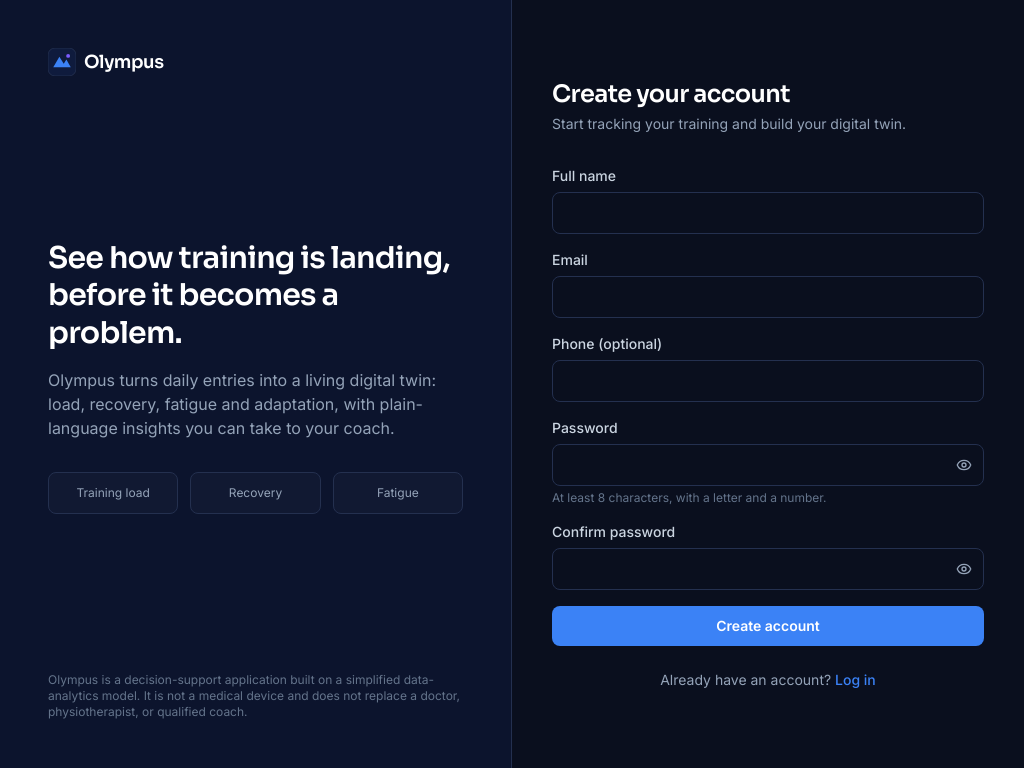
it: RegisterPage › validates password strength and confirmation
Type "Jo Doe" into the field labelled "Full name" at (768, 213), box [552,192,984,234]
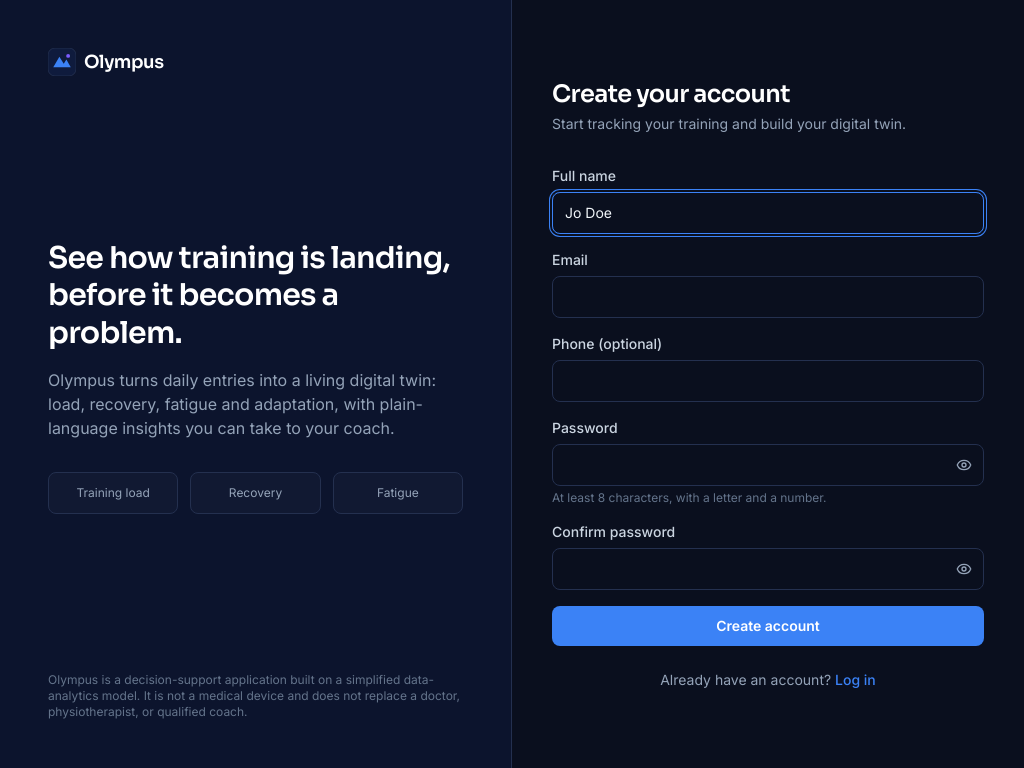
Type "jo@doe.com" into the field labelled "Email" at (768, 297), box [552,276,984,318]
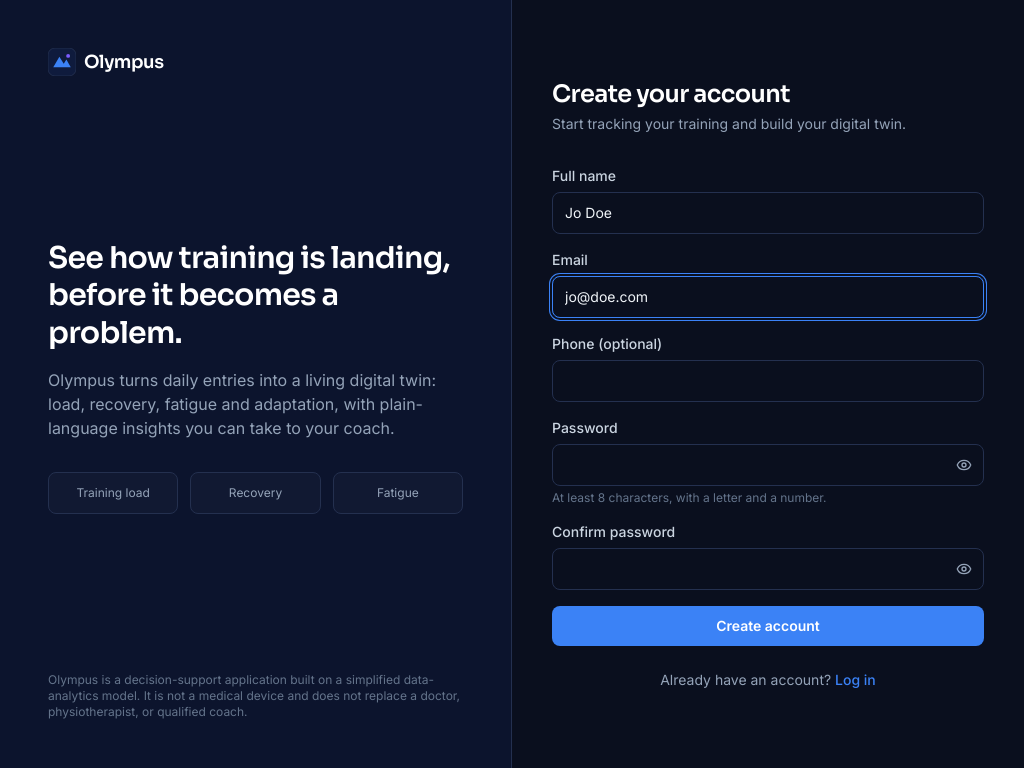
Type "abcdefgh" into the password field labelled "Password" at (768, 465), box [552,444,984,486]
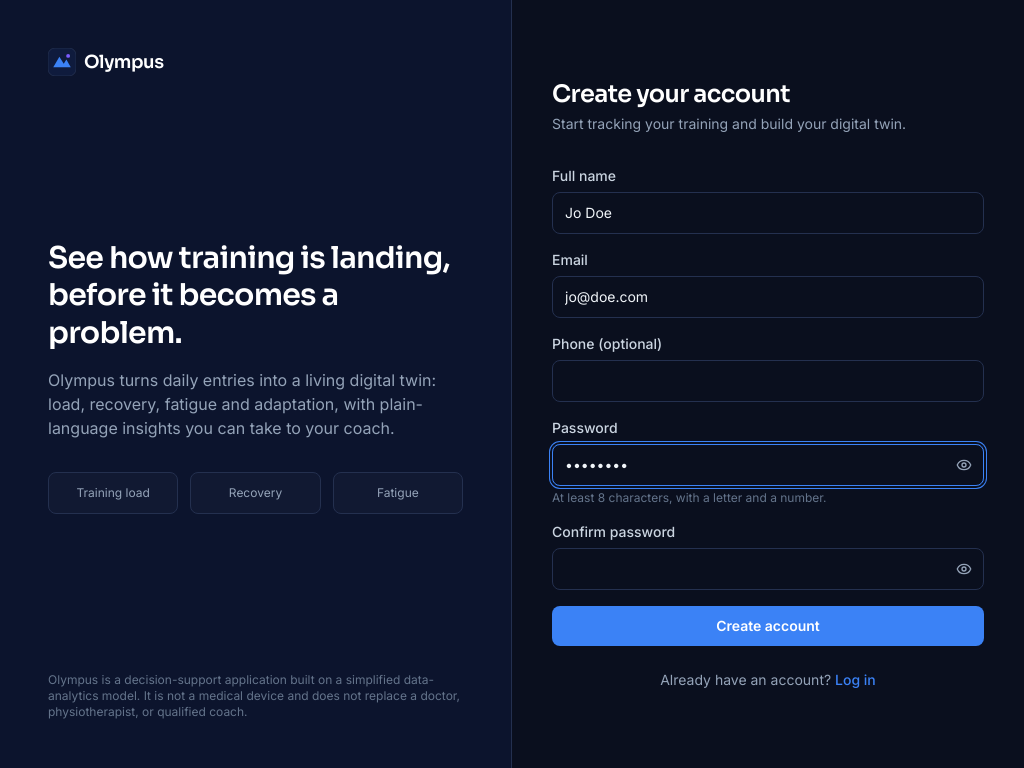
Type "different1" into the password field labelled "Confirm password" at (768, 569), box [552,548,984,590]
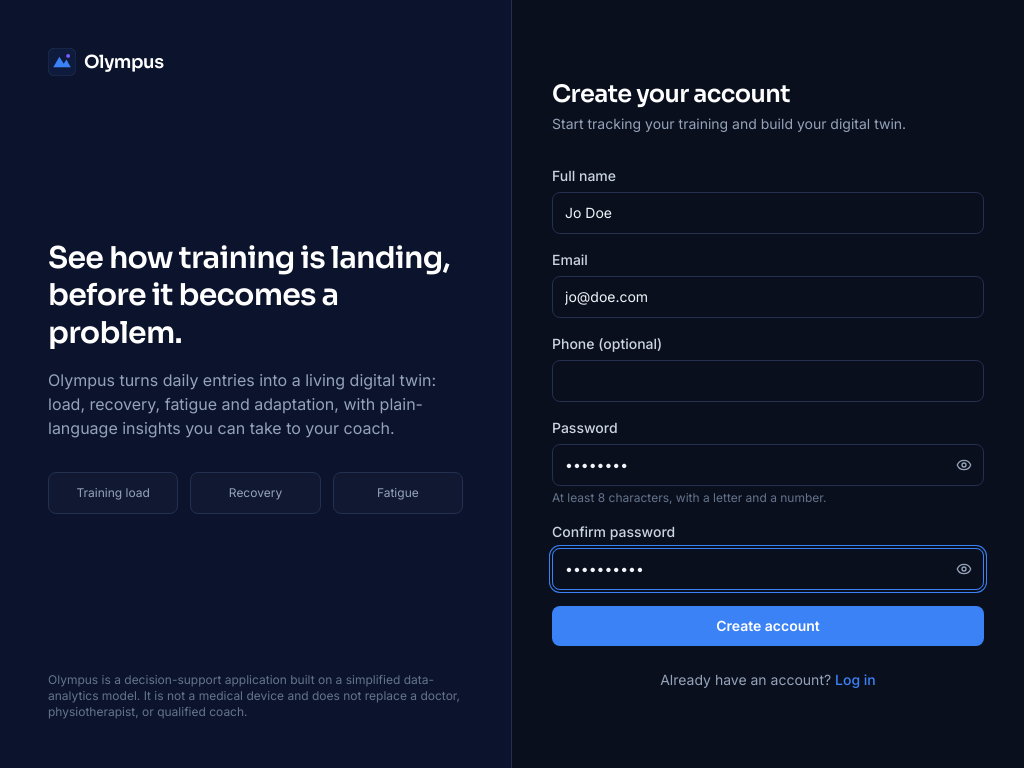
Click the button "Create account" at (768, 626), box [552,606,984,646]
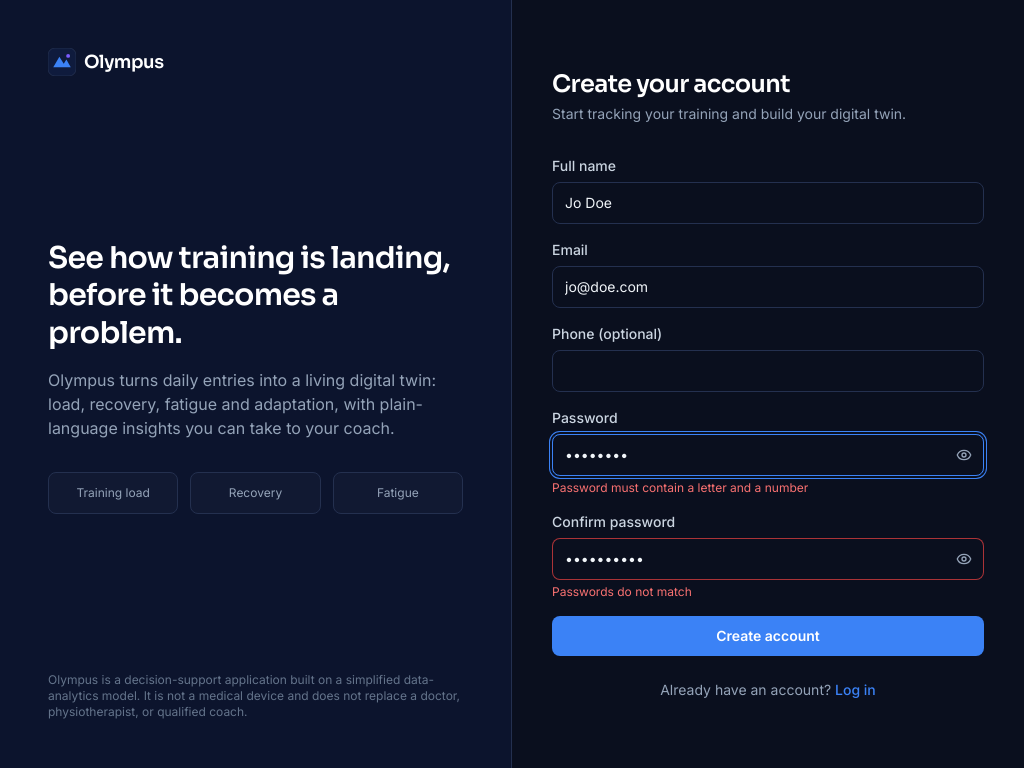
Expected: the text "Password must contain a letter and a number" is shown, [552,480,808,495]
Expected: the text "Passwords do not match" is shown, [552,584,692,599]
